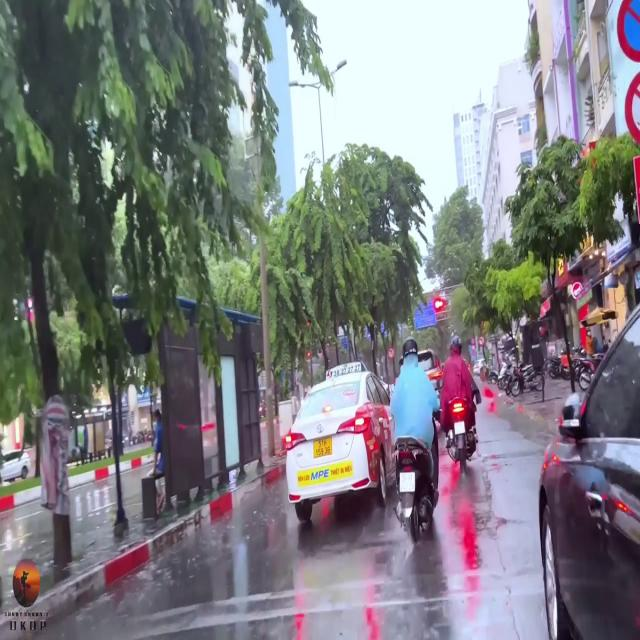bien_vang: (310, 437, 334, 457)
